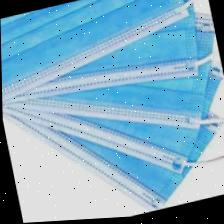mask: (2, 45, 218, 211), (2, 30, 222, 174), (2, 11, 212, 131), (0, 0, 197, 104), (0, 0, 187, 99)
